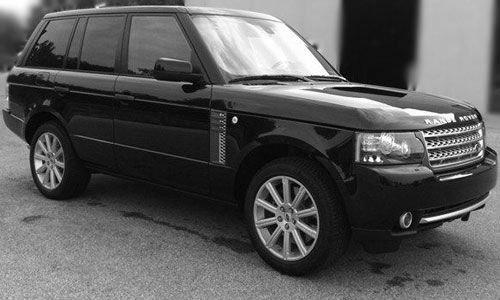car: (2, 6, 500, 279)
